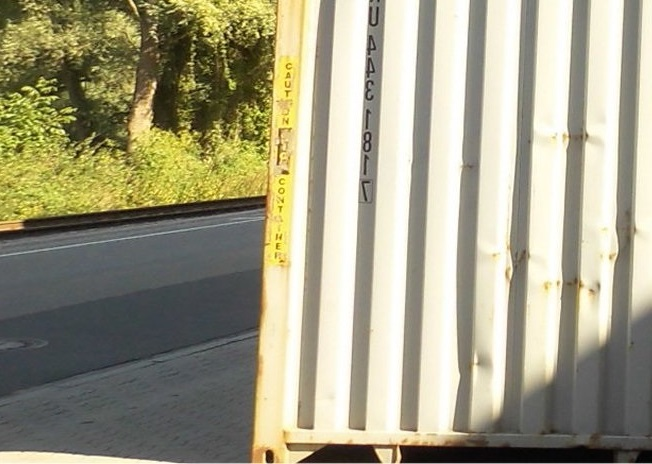container_no_door: (251, 1, 652, 461)
